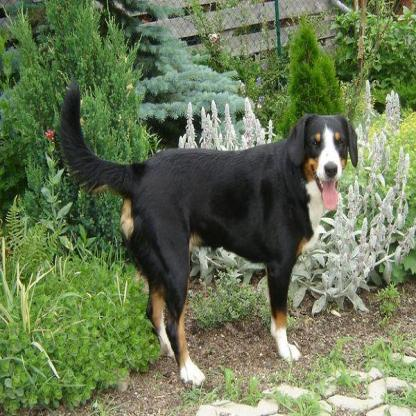EntleBucher: (54, 78, 359, 383)
